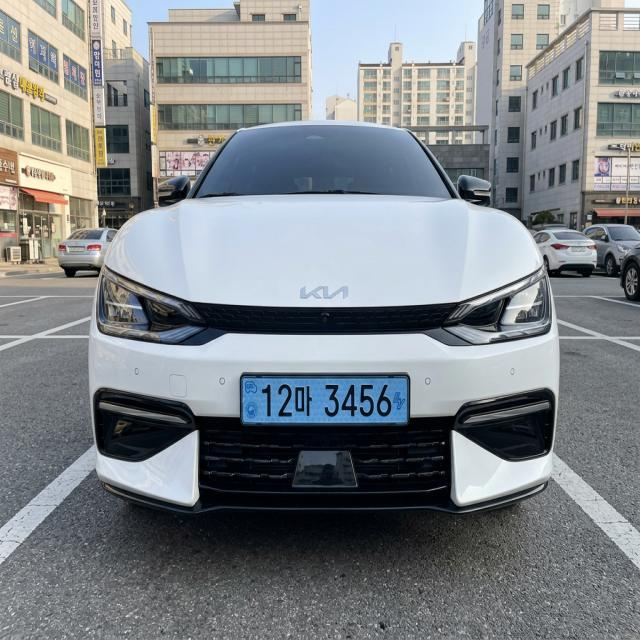car: (209, 365, 444, 441)
carev: (389, 374, 410, 426), (240, 376, 261, 423)
